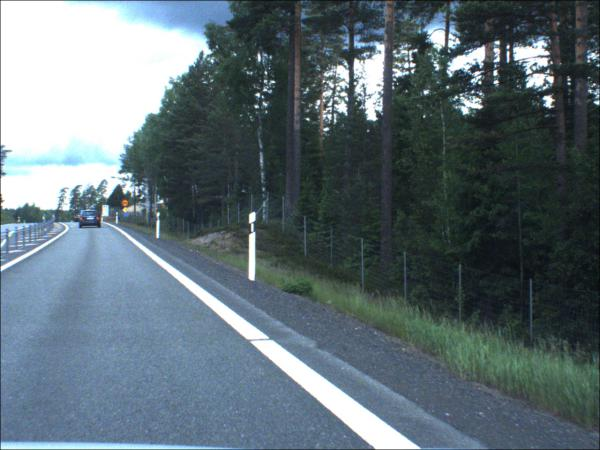100_SIGN: (123, 201, 130, 208)
PRIORITY_ROAD: (124, 209, 130, 214)
